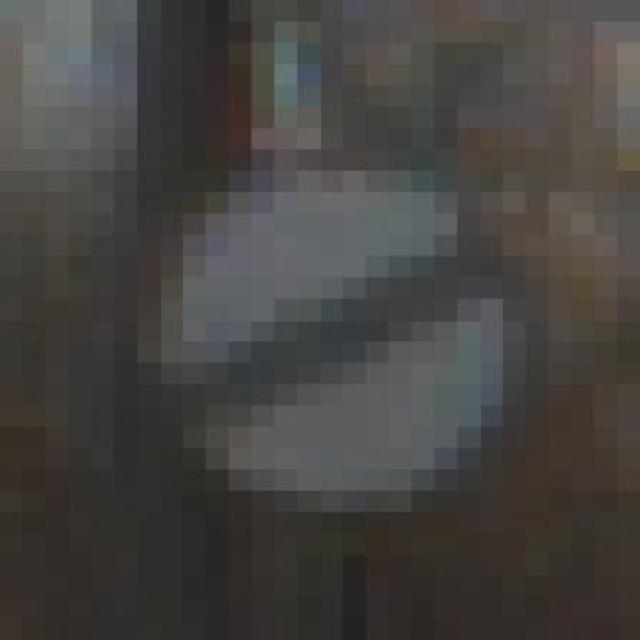End of all speed and passing limits: (91, 128, 548, 512)
